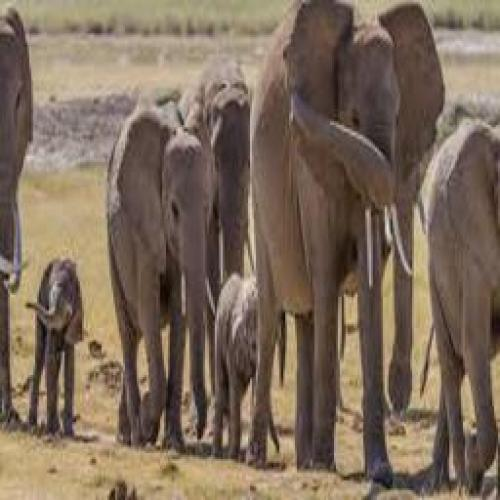african_elephant-endangered: (249, 0, 438, 491), (104, 104, 210, 452), (420, 119, 500, 500), (177, 64, 252, 352), (0, 9, 33, 434), (27, 256, 85, 433), (216, 275, 271, 456)
